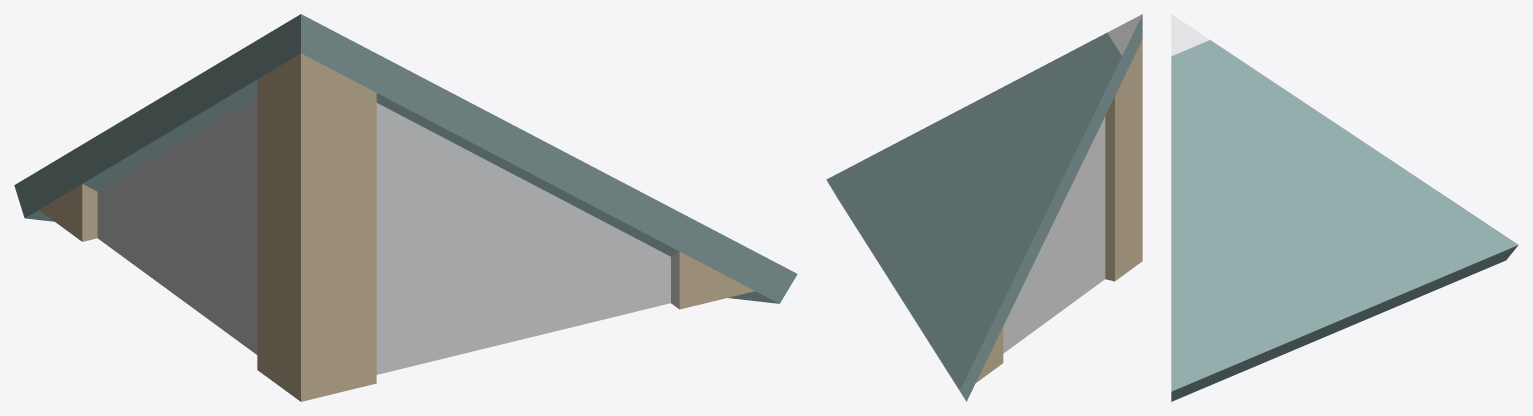
The model's file is Roof_Corner_Green_01.glb.
3 renders of one model, left to right at view 1: azimuth 30°, elevation 25°; view 2: azimuth 150°, elevation 25°; view 3: azimuth 270°, elevation 25°, orthographic. The views are drawn at different scales.
Parts seen in each view (by area): view 1: Roof_Corner_Green_01; view 2: Roof_Corner_Green_01; view 3: Roof_Corner_Green_01.
Part boxes in pixels (bbox=[...]): Roof_Corner_Green_01: bbox=[14, 14, 797, 401]; Roof_Corner_Green_01: bbox=[826, 14, 1142, 401]; Roof_Corner_Green_01: bbox=[1171, 14, 1518, 401].
Bounding box in the file's own units: 3.28 × 2.57 × 3.28.
